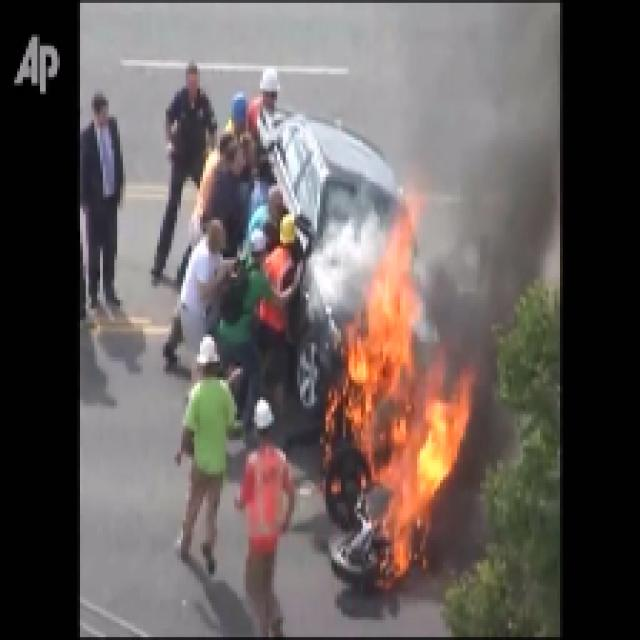fire: (338, 289, 459, 583)
smoke: (399, 5, 559, 270)
